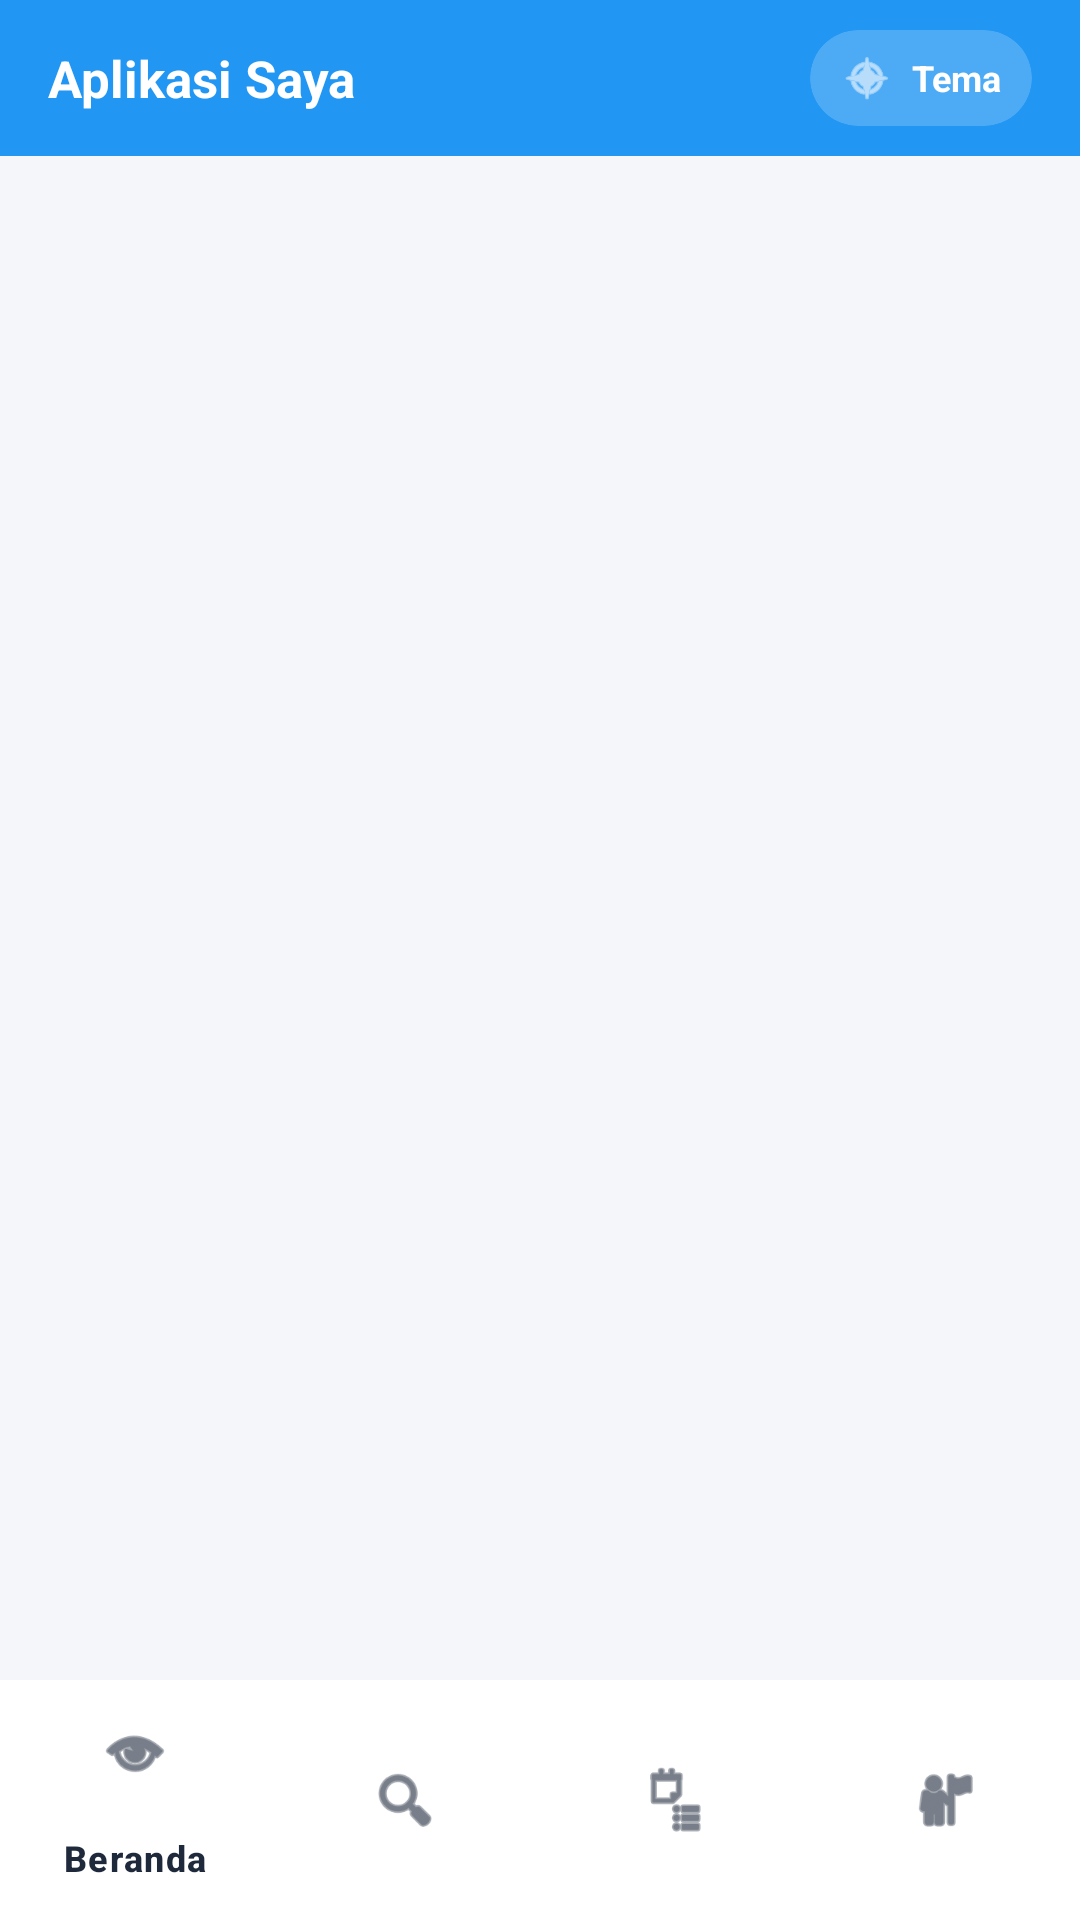

Where icons sit on this 1080x1920 app screen, as (x1, y1, x2, y2):
compass: (846, 57, 888, 99)
